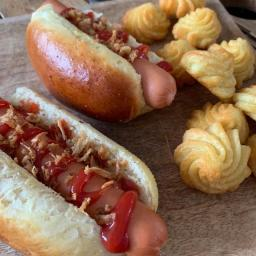hotdog: (0, 90, 171, 256), (25, 0, 182, 118)
